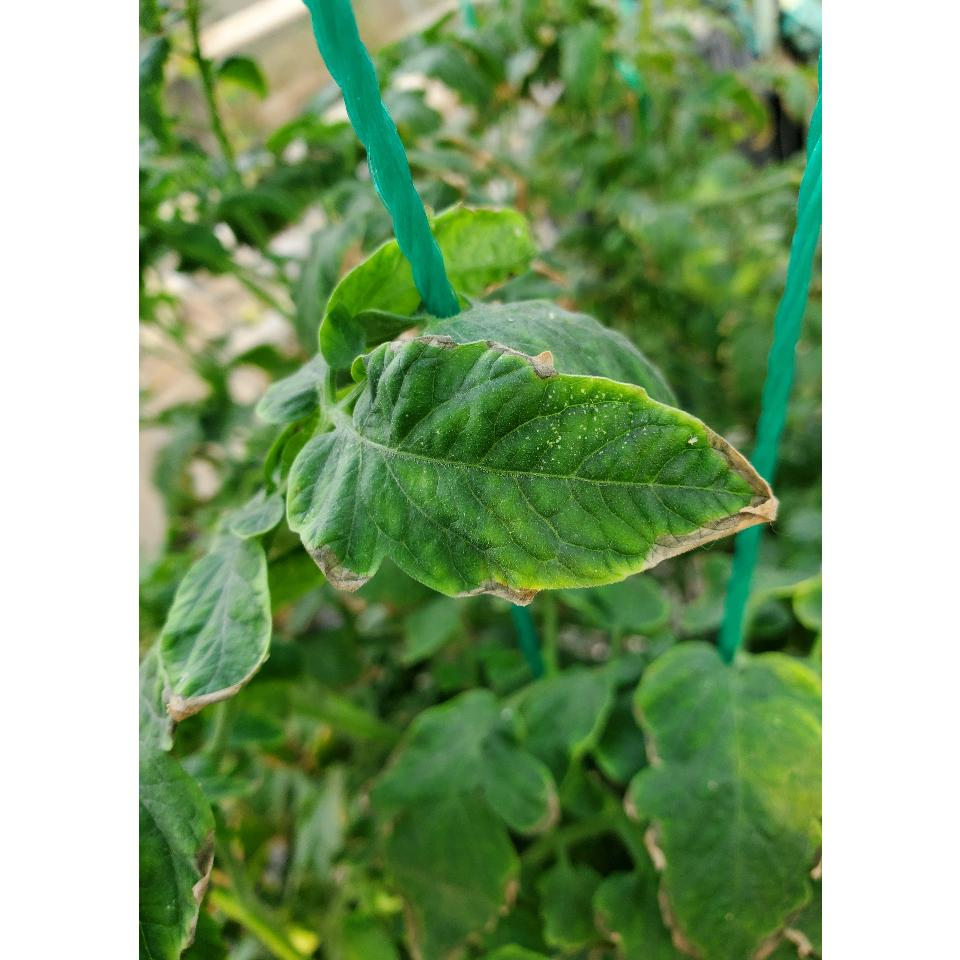tomato_bacterial_blight: (271, 322, 801, 608)
